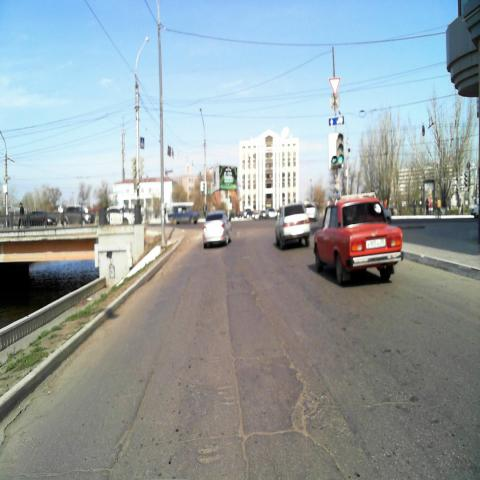6_15_1: (329, 116, 344, 127)
